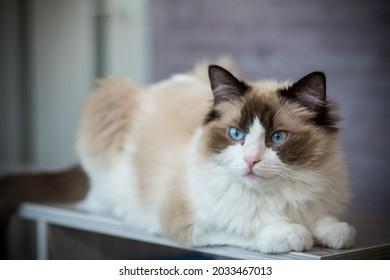ragdoll: (190, 42, 345, 209)
